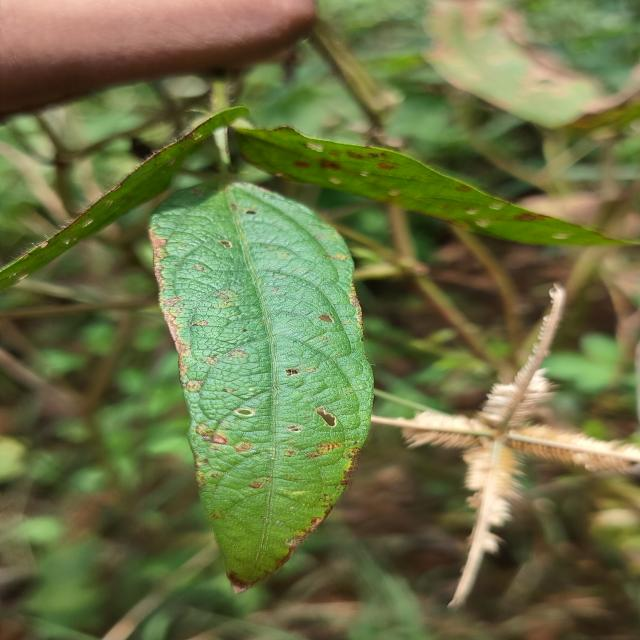Black gram_leaf spot: (148, 182, 372, 590), (234, 126, 625, 245), (0, 106, 247, 290)
